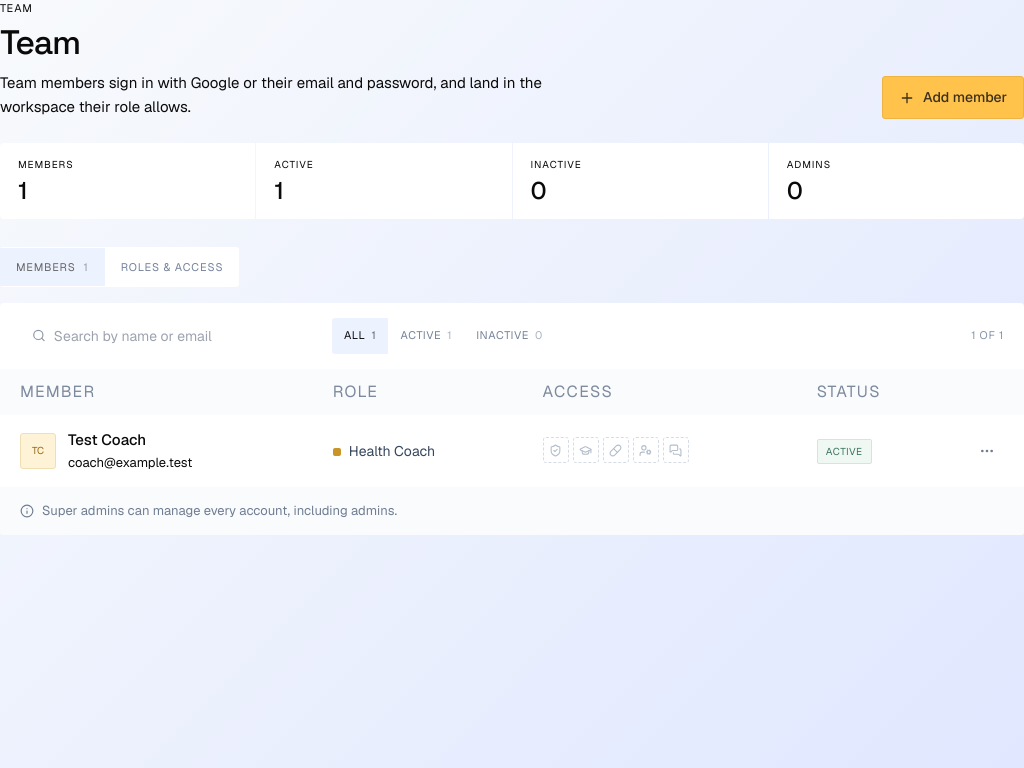
Test: member role drawer › a super-admin can open, select, and save Admin when the API omits the new role field
The image size is (1024, 768).
Later steps or results of the test are not shown.
Press Enter in the button named "Actions for Test Coach", box [970, 434, 1004, 468]
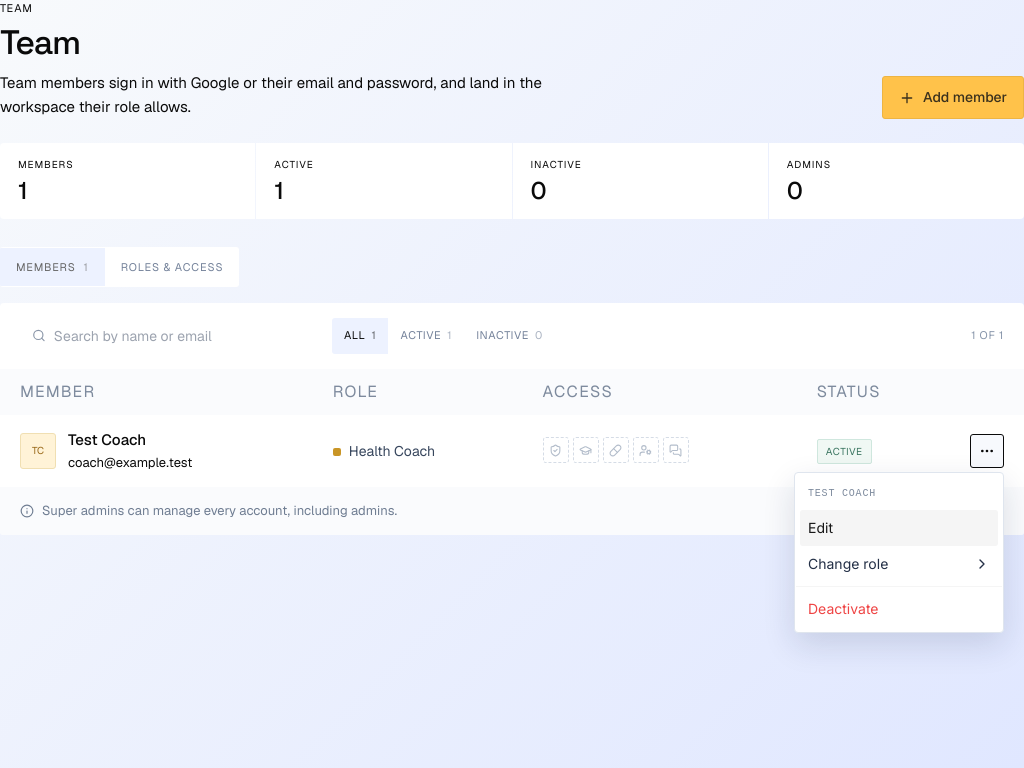
Click the menu item "Edit" at (899, 528), box [800, 510, 998, 546]
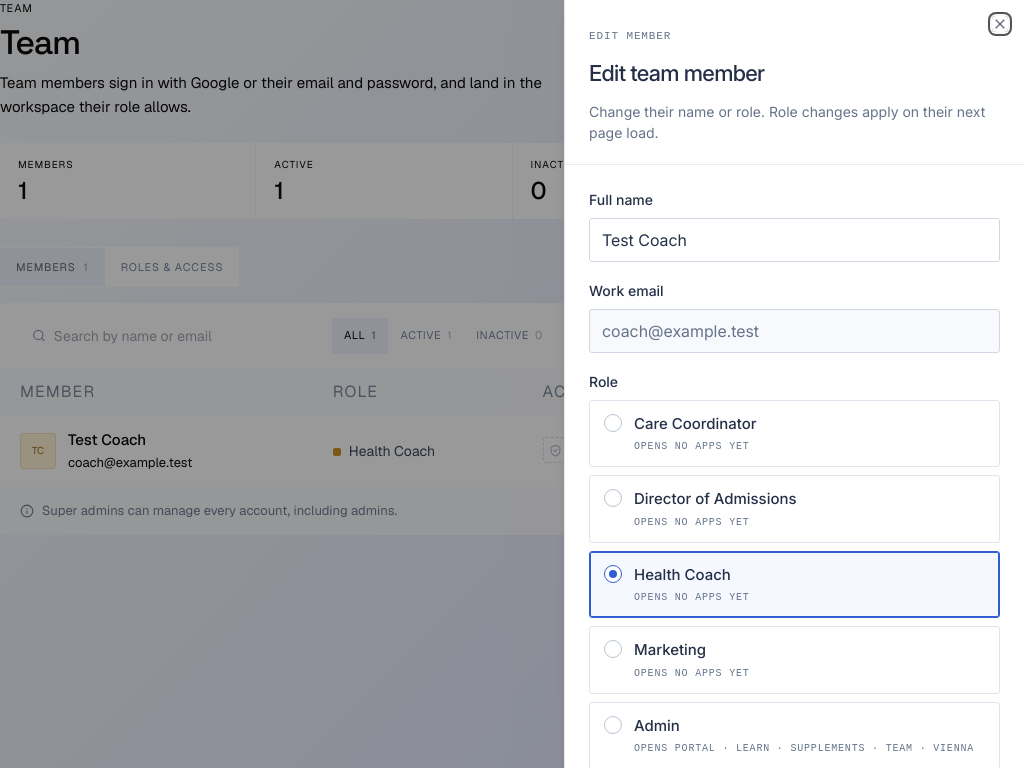
Result: the radio button named "member-role" is shown at [604, 716, 622, 734]
